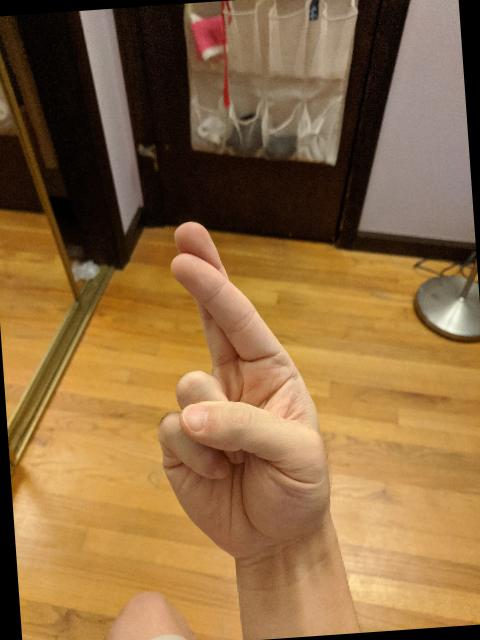R: (139, 208, 341, 568)
